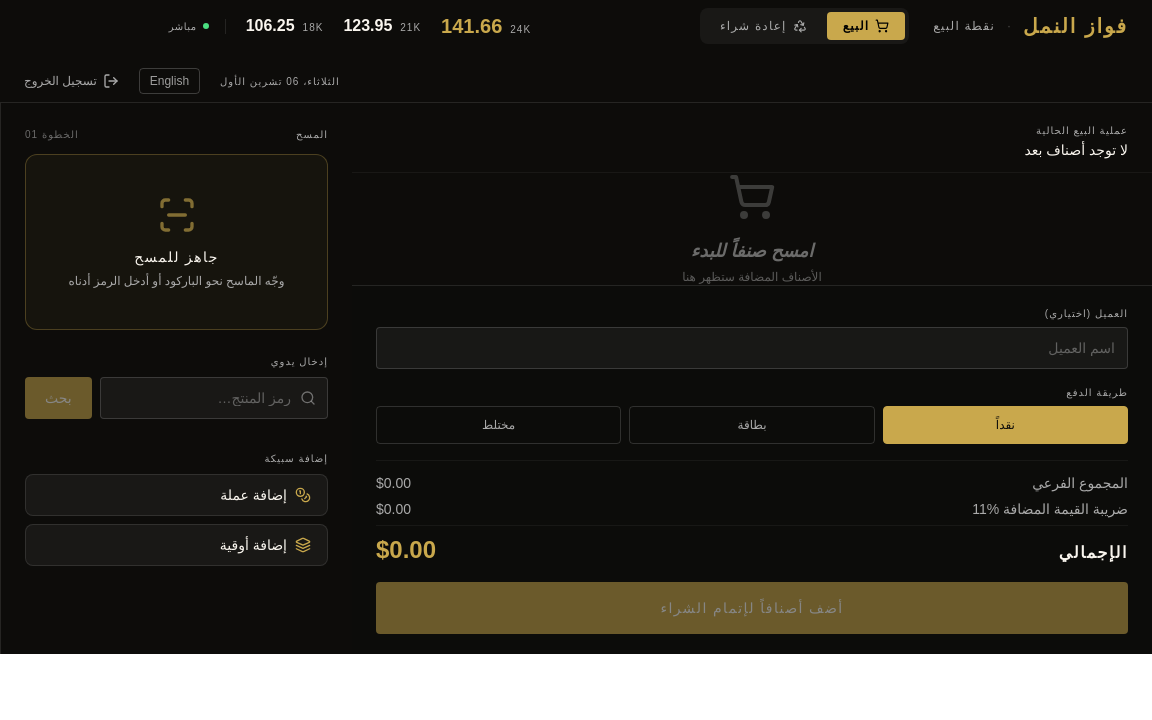
Scenario: POS sell — a failed checkout speaks the UI language › Arabic, when the connection drops: the translated fallback, the cart intact
Type "FN-21K-0001" into the field named "إدخال يدوي" at (214, 398), box [100,377,328,419]
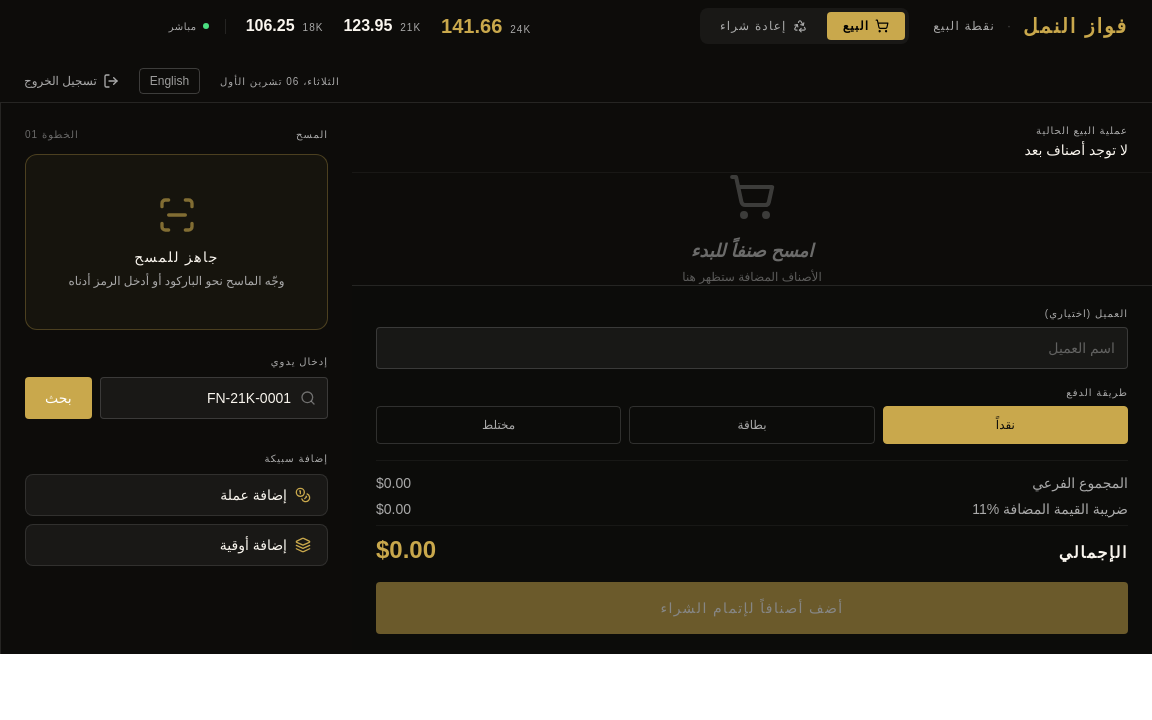
Click the button "بحث" at (58, 398), box [25,377,92,419]
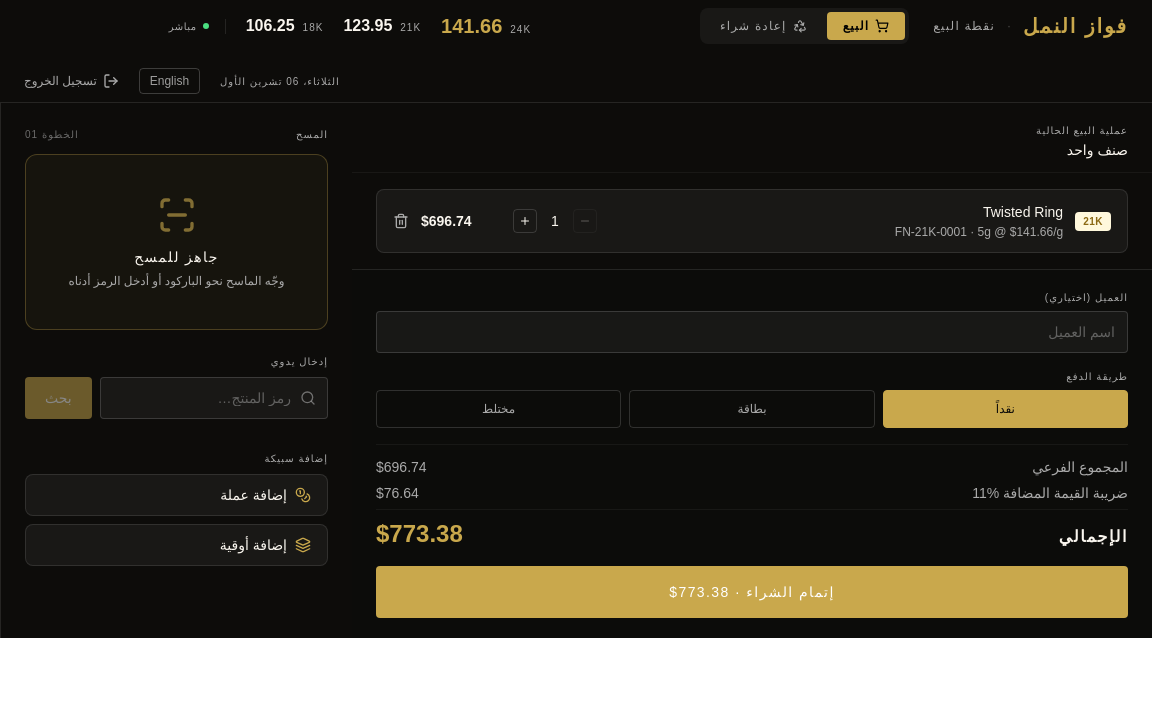
Expected: the text "Twisted Ring" is shown, [983,204,1063,220]
Click the button "إتمام الشراء · $773.38" at (752, 592), box [376,566,1128,618]
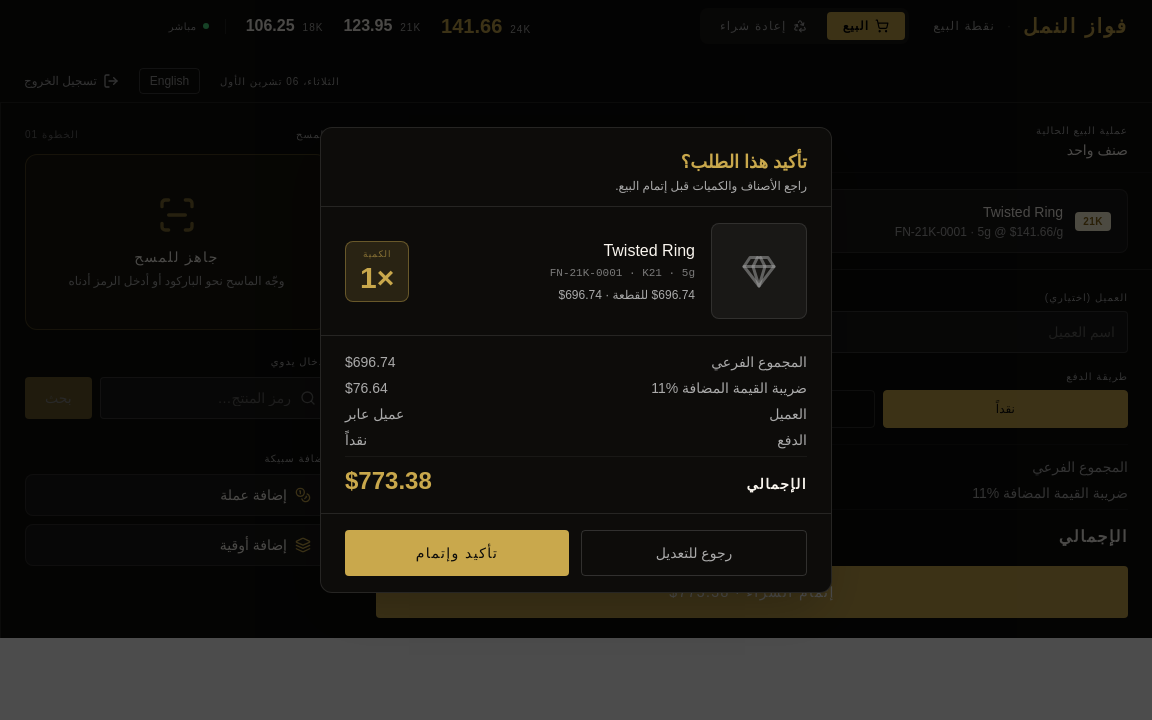
Click the button "تأكيد وإتمام" at (457, 553), box [345,530,569,576]
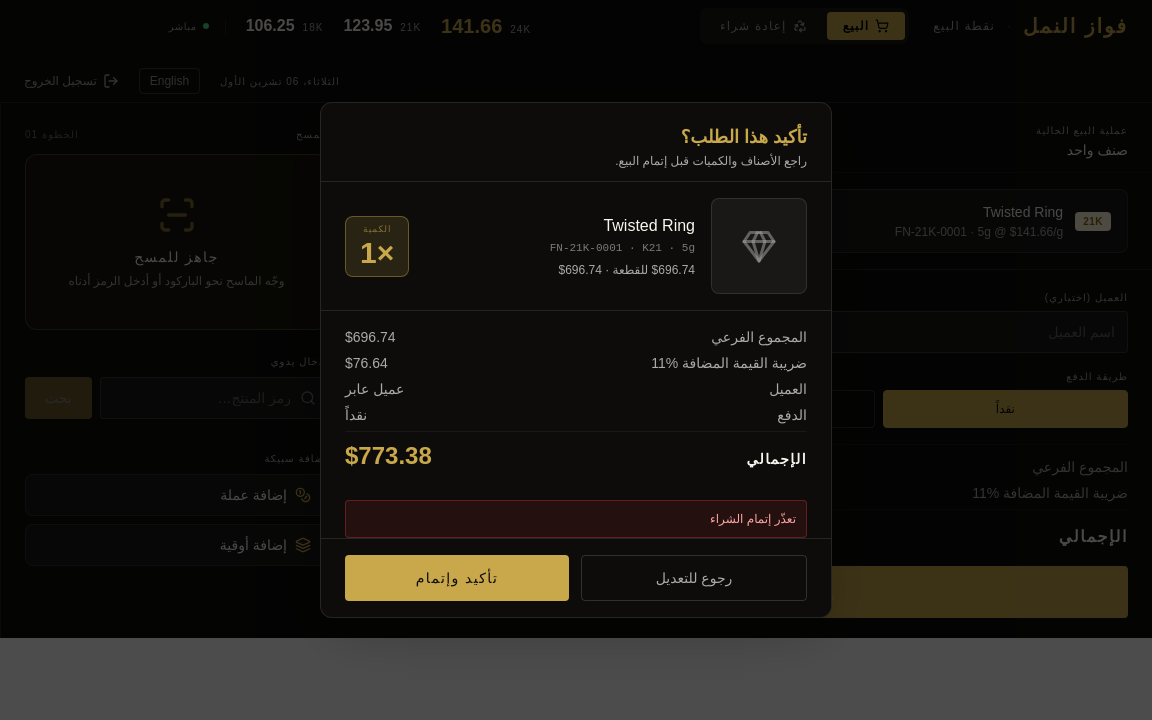
Expected: the text "تعذّر إتمام الشراء" is shown, [345,500,807,538]
